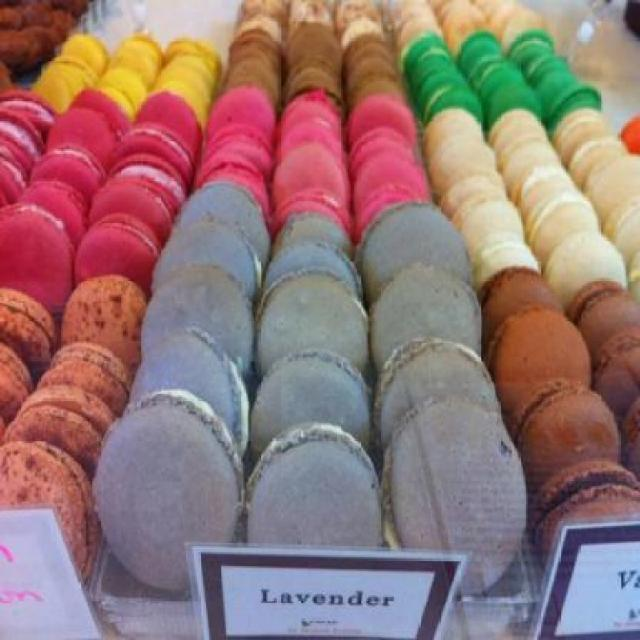Macaron: (2, 9, 640, 638)
